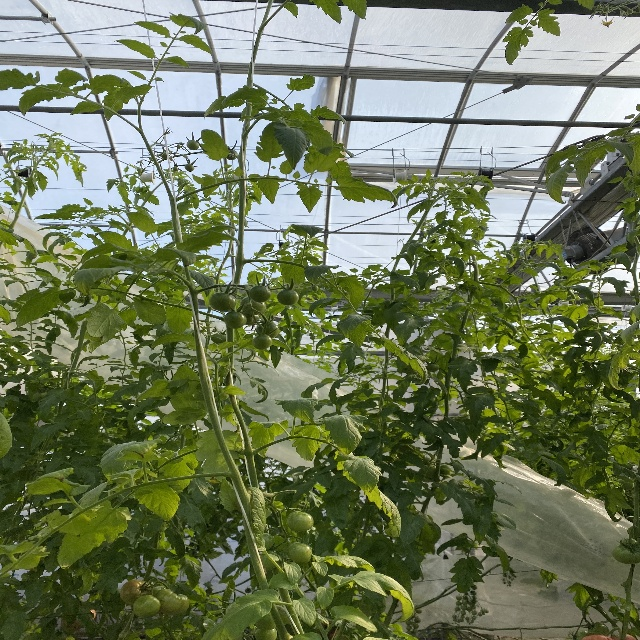l_green: (155, 589, 190, 616), (133, 594, 161, 618), (285, 510, 314, 532), (208, 292, 237, 312), (286, 542, 313, 562), (240, 296, 266, 315), (256, 321, 279, 340), (223, 311, 247, 329), (248, 285, 271, 302), (276, 289, 299, 305), (252, 335, 272, 350)
l_half_ripened: (120, 580, 153, 606)
